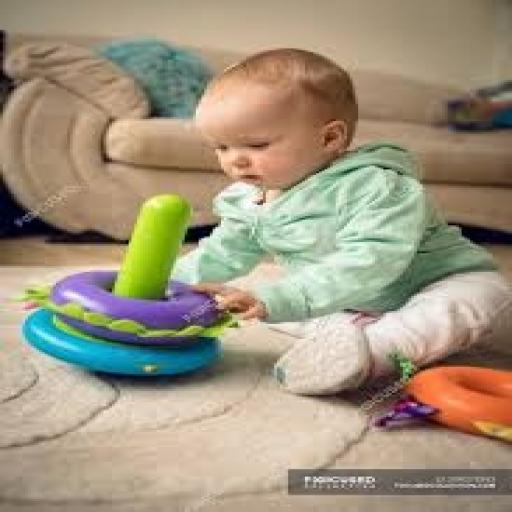baby: (174, 49, 511, 394)
